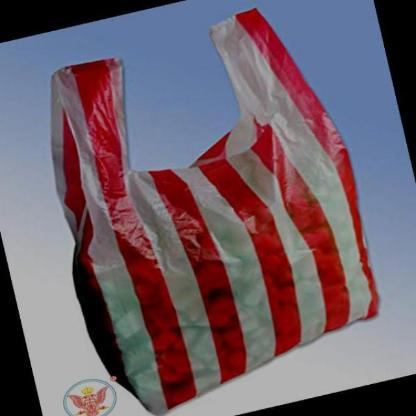Plastic Bag: (47, 8, 383, 416)
